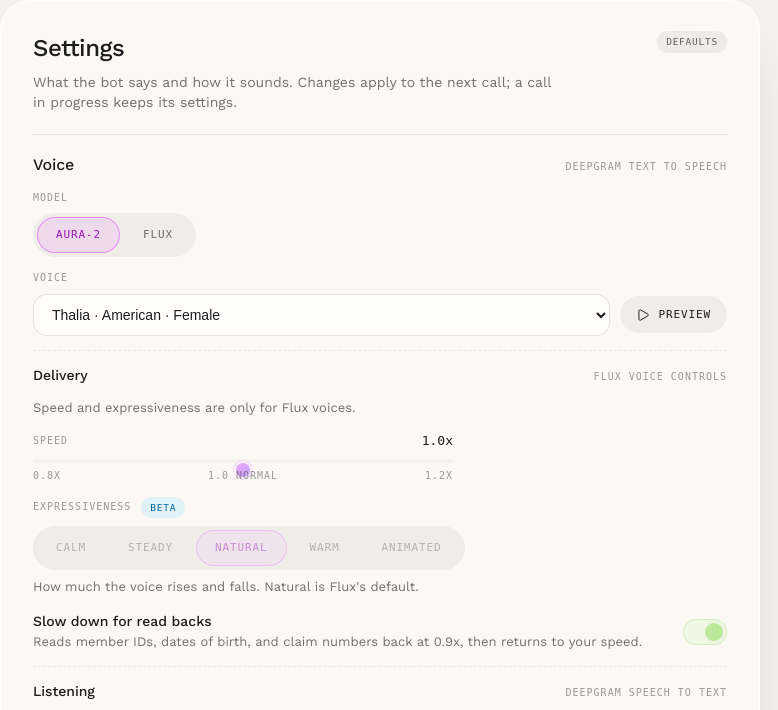
Test: Settings page (P5-5, AP-20) › switching to Flux lists Flux voices and picks the first
Expected: the dropdown labelled "Voice" is shown, [33, 294, 610, 336]
What coordinates should you click on to do the following:
click the 1st radio button labelled "Flux"
I would click on:
 (158, 235)
Its box is [124, 217, 192, 253].
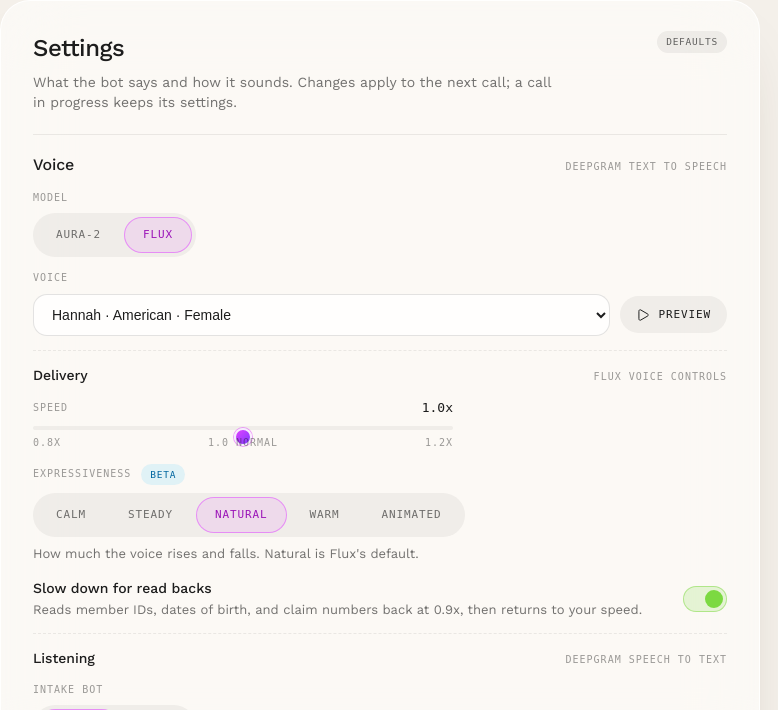
Expected: the dropdown labelled "Voice" shows "Hannah · American · Female", [33, 294, 610, 336]
